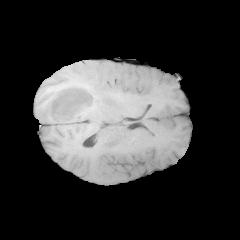glioma: (44, 79, 100, 123)
